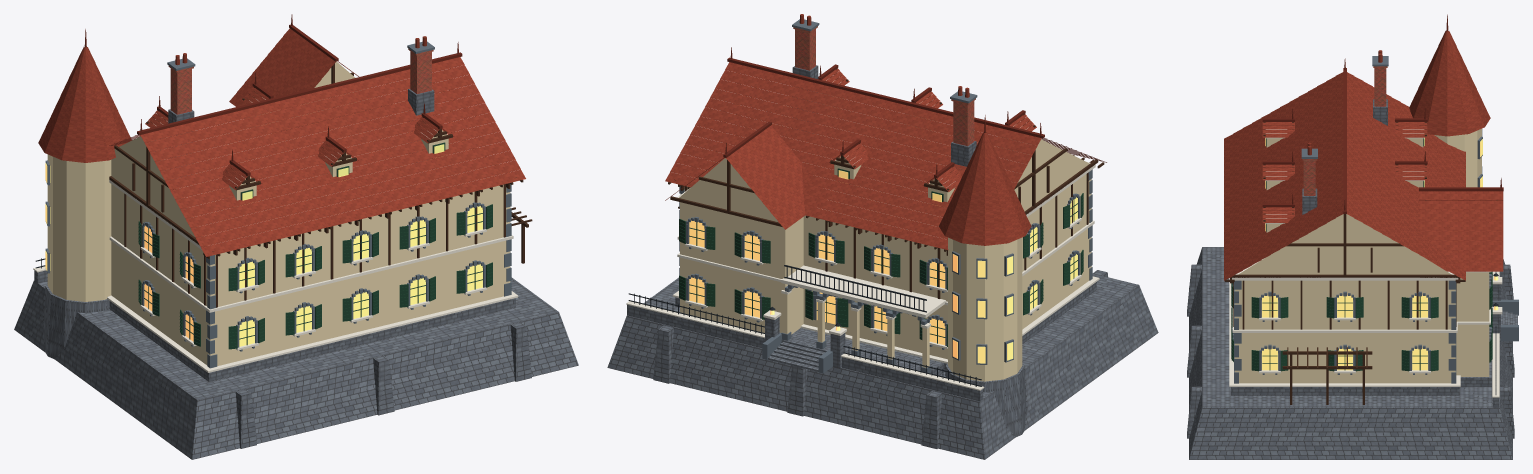
File: fv_cg_01_co_giang_villa_01_03_grand_estate.glb
3 renders of one model, left to right at view 1: azimuth 30°, elevation 25°; view 2: azimuth 150°, elevation 25°; view 3: azimuth 270°, elevation 25°, orthographic. The views are drawn at different scales.
Parts seen in each view (by area): view 1: Normandy_Brittany_Layered_Roof, Foundation_Skirt_Neg3p5m, Villa_Stucco_Walls, PineGreen_Louvered_Shutters, Molded_Cornices_And_Sills, Stone_Quoins_And_Arches, Exposed_Timber_Trusses_And_Rafters, Warm_Night_Windows_20h00_Blend, Roof_Ridges_Caps_And_Finials, Brick_Chimney_Stacks; view 2: Foundation_Skirt_Neg3p5m, Normandy_Brittany_Layered_Roof, Villa_Stucco_Walls, Molded_Cornices_And_Sills, Stone_Quoins_And_Arches, PineGreen_Louvered_Shutters, Warm_Night_Windows_20h00_Blend, Exposed_Timber_Trusses_And_Rafters, Roof_Ridges_Caps_And_Finials, Wrought_Iron_Balustrades_And_Gate, Brick_Chimney_Stacks; view 3: Normandy_Brittany_Layered_Roof, Foundation_Skirt_Neg3p5m, Villa_Stucco_Walls, Molded_Cornices_And_Sills, Exposed_Timber_Trusses_And_Rafters, Stone_Quoins_And_Arches, PineGreen_Louvered_Shutters, Warm_Night_Windows_20h00_Blend, Roof_Ridges_Caps_And_Finials, Brick_Chimney_Stacks.
Part boxes in pixels (x1=…): Normandy_Brittany_Layered_Roof: x1=38, y1=28, x2=525, y2=256; Foundation_Skirt_Neg3p5m: x1=14, y1=88, x2=578, y2=459; Villa_Stucco_Walls: x1=47, y1=61, x2=510, y2=365; PineGreen_Louvered_Shutters: x1=138, y1=142, x2=492, y2=349; Molded_Cornices_And_Sills: x1=33, y1=96, x2=518, y2=372; Stone_Quoins_And_Arches: x1=45, y1=41, x2=511, y2=368; Exposed_Timber_Trusses_And_Rafters: x1=109, y1=63, x2=532, y2=307; Warm_Night_Windows_20h00_Blend: x1=45, y1=144, x2=482, y2=346; Roof_Ridges_Caps_And_Finials: x1=84, y1=14, x2=462, y2=183; Brick_Chimney_Stacks: x1=168, y1=48, x2=433, y2=114; Foundation_Skirt_Neg3p5m: x1=607, y1=65, x2=1158, y2=459; Normandy_Brittany_Layered_Roof: x1=665, y1=14, x2=1041, y2=250; Villa_Stucco_Walls: x1=679, y1=139, x2=1091, y2=381; Molded_Cornices_And_Sills: x1=626, y1=79, x2=1099, y2=390; Stone_Quoins_And_Arches: x1=679, y1=19, x2=1092, y2=373; PineGreen_Louvered_Shutters: x1=679, y1=168, x2=1083, y2=346; Warm_Night_Windows_20h00_Blend: x1=689, y1=170, x2=1077, y2=363; Exposed_Timber_Trusses_And_Rafters: x1=668, y1=68, x2=1104, y2=298; Roof_Ridges_Caps_And_Finials: x1=665, y1=47, x2=1106, y2=200; Wrought_Iron_Balustrades_And_Gate: x1=628, y1=265, x2=981, y2=386; Brick_Chimney_Stacks: x1=793, y1=26, x2=975, y2=146; Normandy_Brittany_Layered_Roof: x1=1224, y1=31, x2=1503, y2=280; Foundation_Skirt_Neg3p5m: x1=1187, y1=99, x2=1517, y2=459; Villa_Stucco_Walls: x1=1234, y1=128, x2=1489, y2=383; Molded_Cornices_And_Sills: x1=1229, y1=129, x2=1502, y2=397; Exposed_Timber_Trusses_And_Rafters: x1=1224, y1=122, x2=1497, y2=404; Stone_Quoins_And_Arches: x1=1232, y1=56, x2=1518, y2=383; PineGreen_Louvered_Shutters: x1=1231, y1=138, x2=1492, y2=371; Warm_Night_Windows_20h00_Blend: x1=1262, y1=137, x2=1498, y2=370; Roof_Ridges_Caps_And_Finials: x1=1262, y1=14, x2=1503, y2=213; Brick_Chimney_Stacks: x1=1302, y1=66, x2=1387, y2=195.
Bounding box in the file's own units: 28.51 × 21.73 × 22.53.
Materials: 12 (3 with a texture image).
